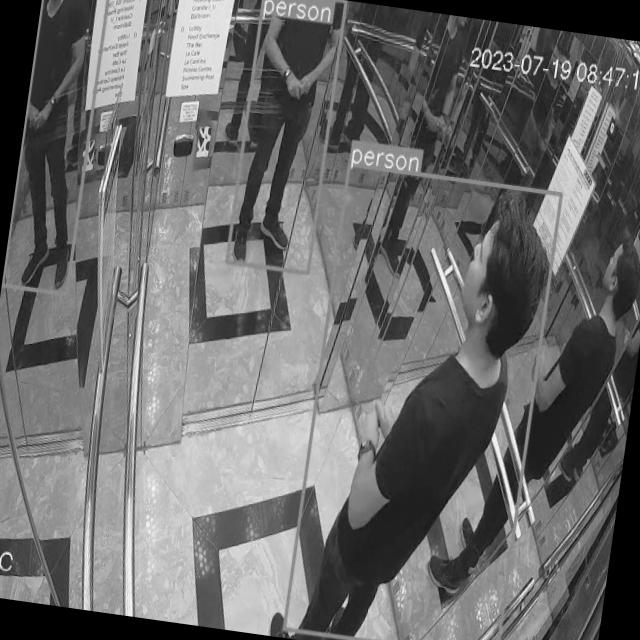person: (287, 163, 563, 640), (426, 202, 640, 619), (229, 0, 348, 273), (5, 0, 111, 292)
